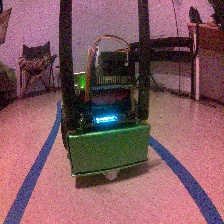rob: (59, 49, 151, 181)
